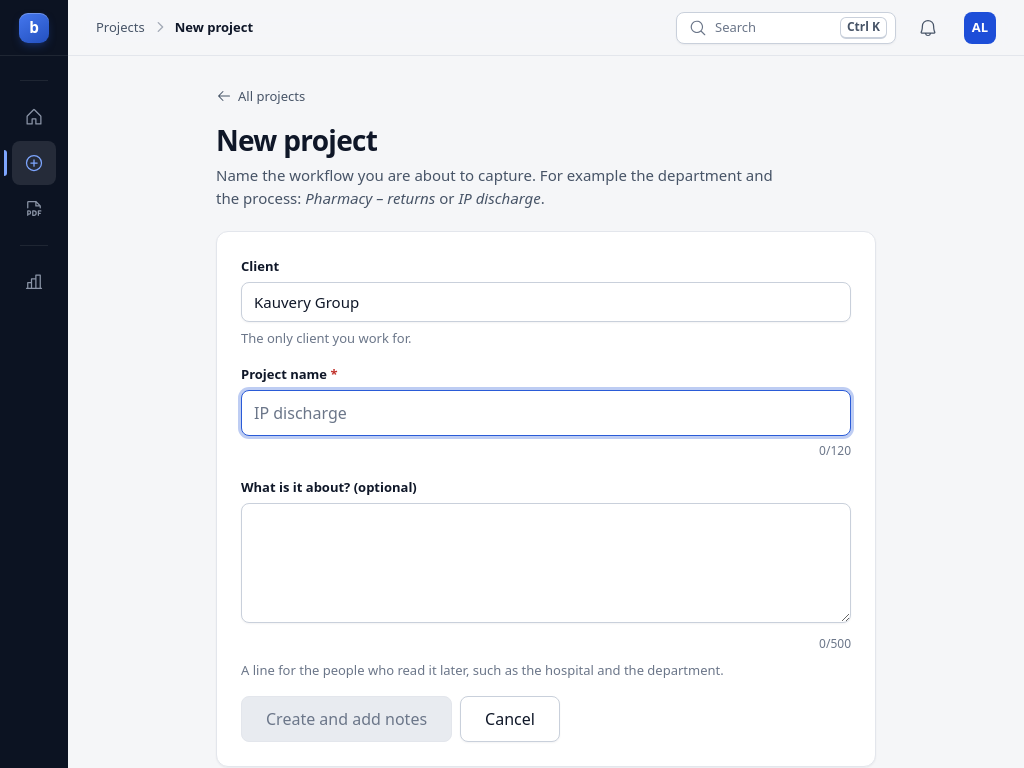
Test: a new project › needs a name, creates the project and its workflow in one step, refreshes the permissions and opens it
Expected: the button "Create and add notes" is disabled, [241,696,452,742]
Type "  IP discharge " into the field labelled "Project name".
click(546, 413); type("  IP discharge ")  # box [241,390,851,436]
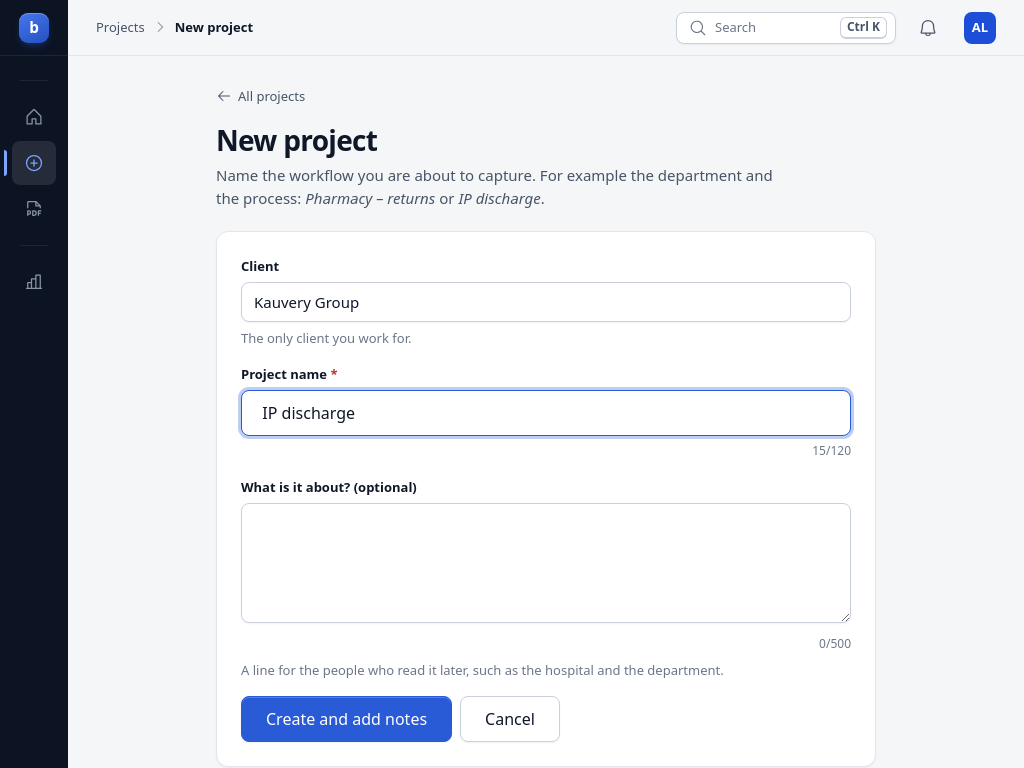
Click the button "Create and add notes".
click(347, 719)  # box [241,696,452,742]
(page scrolled)
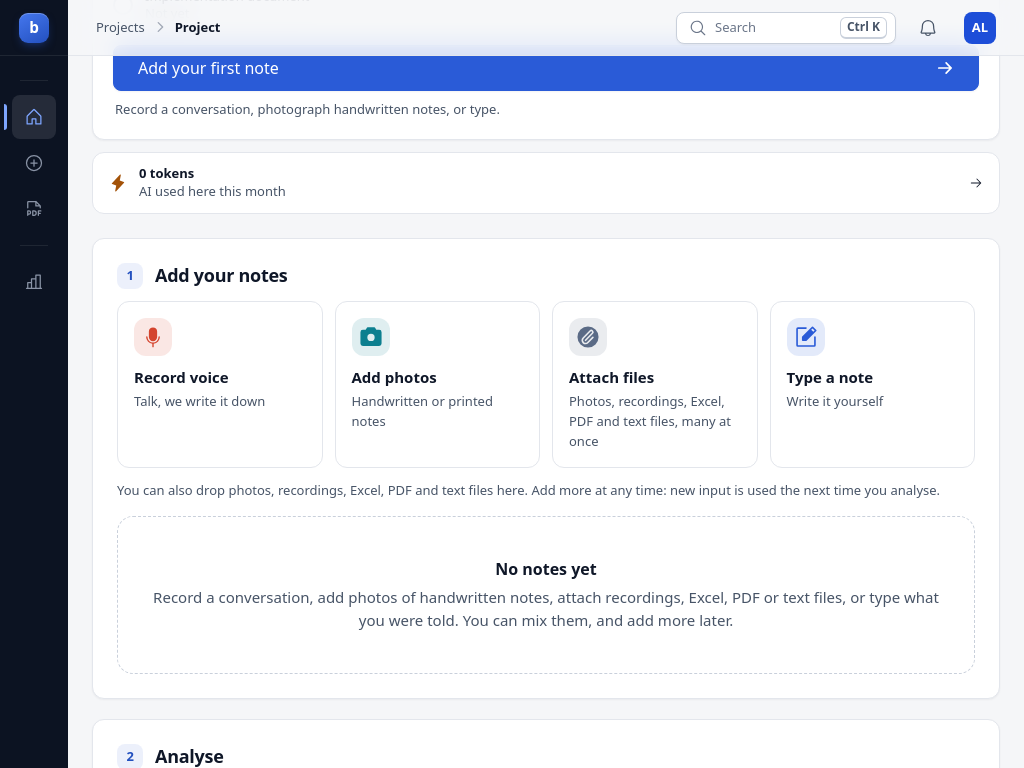
Expected: the element named "Add notes" is shown, [117,300,975,468]
